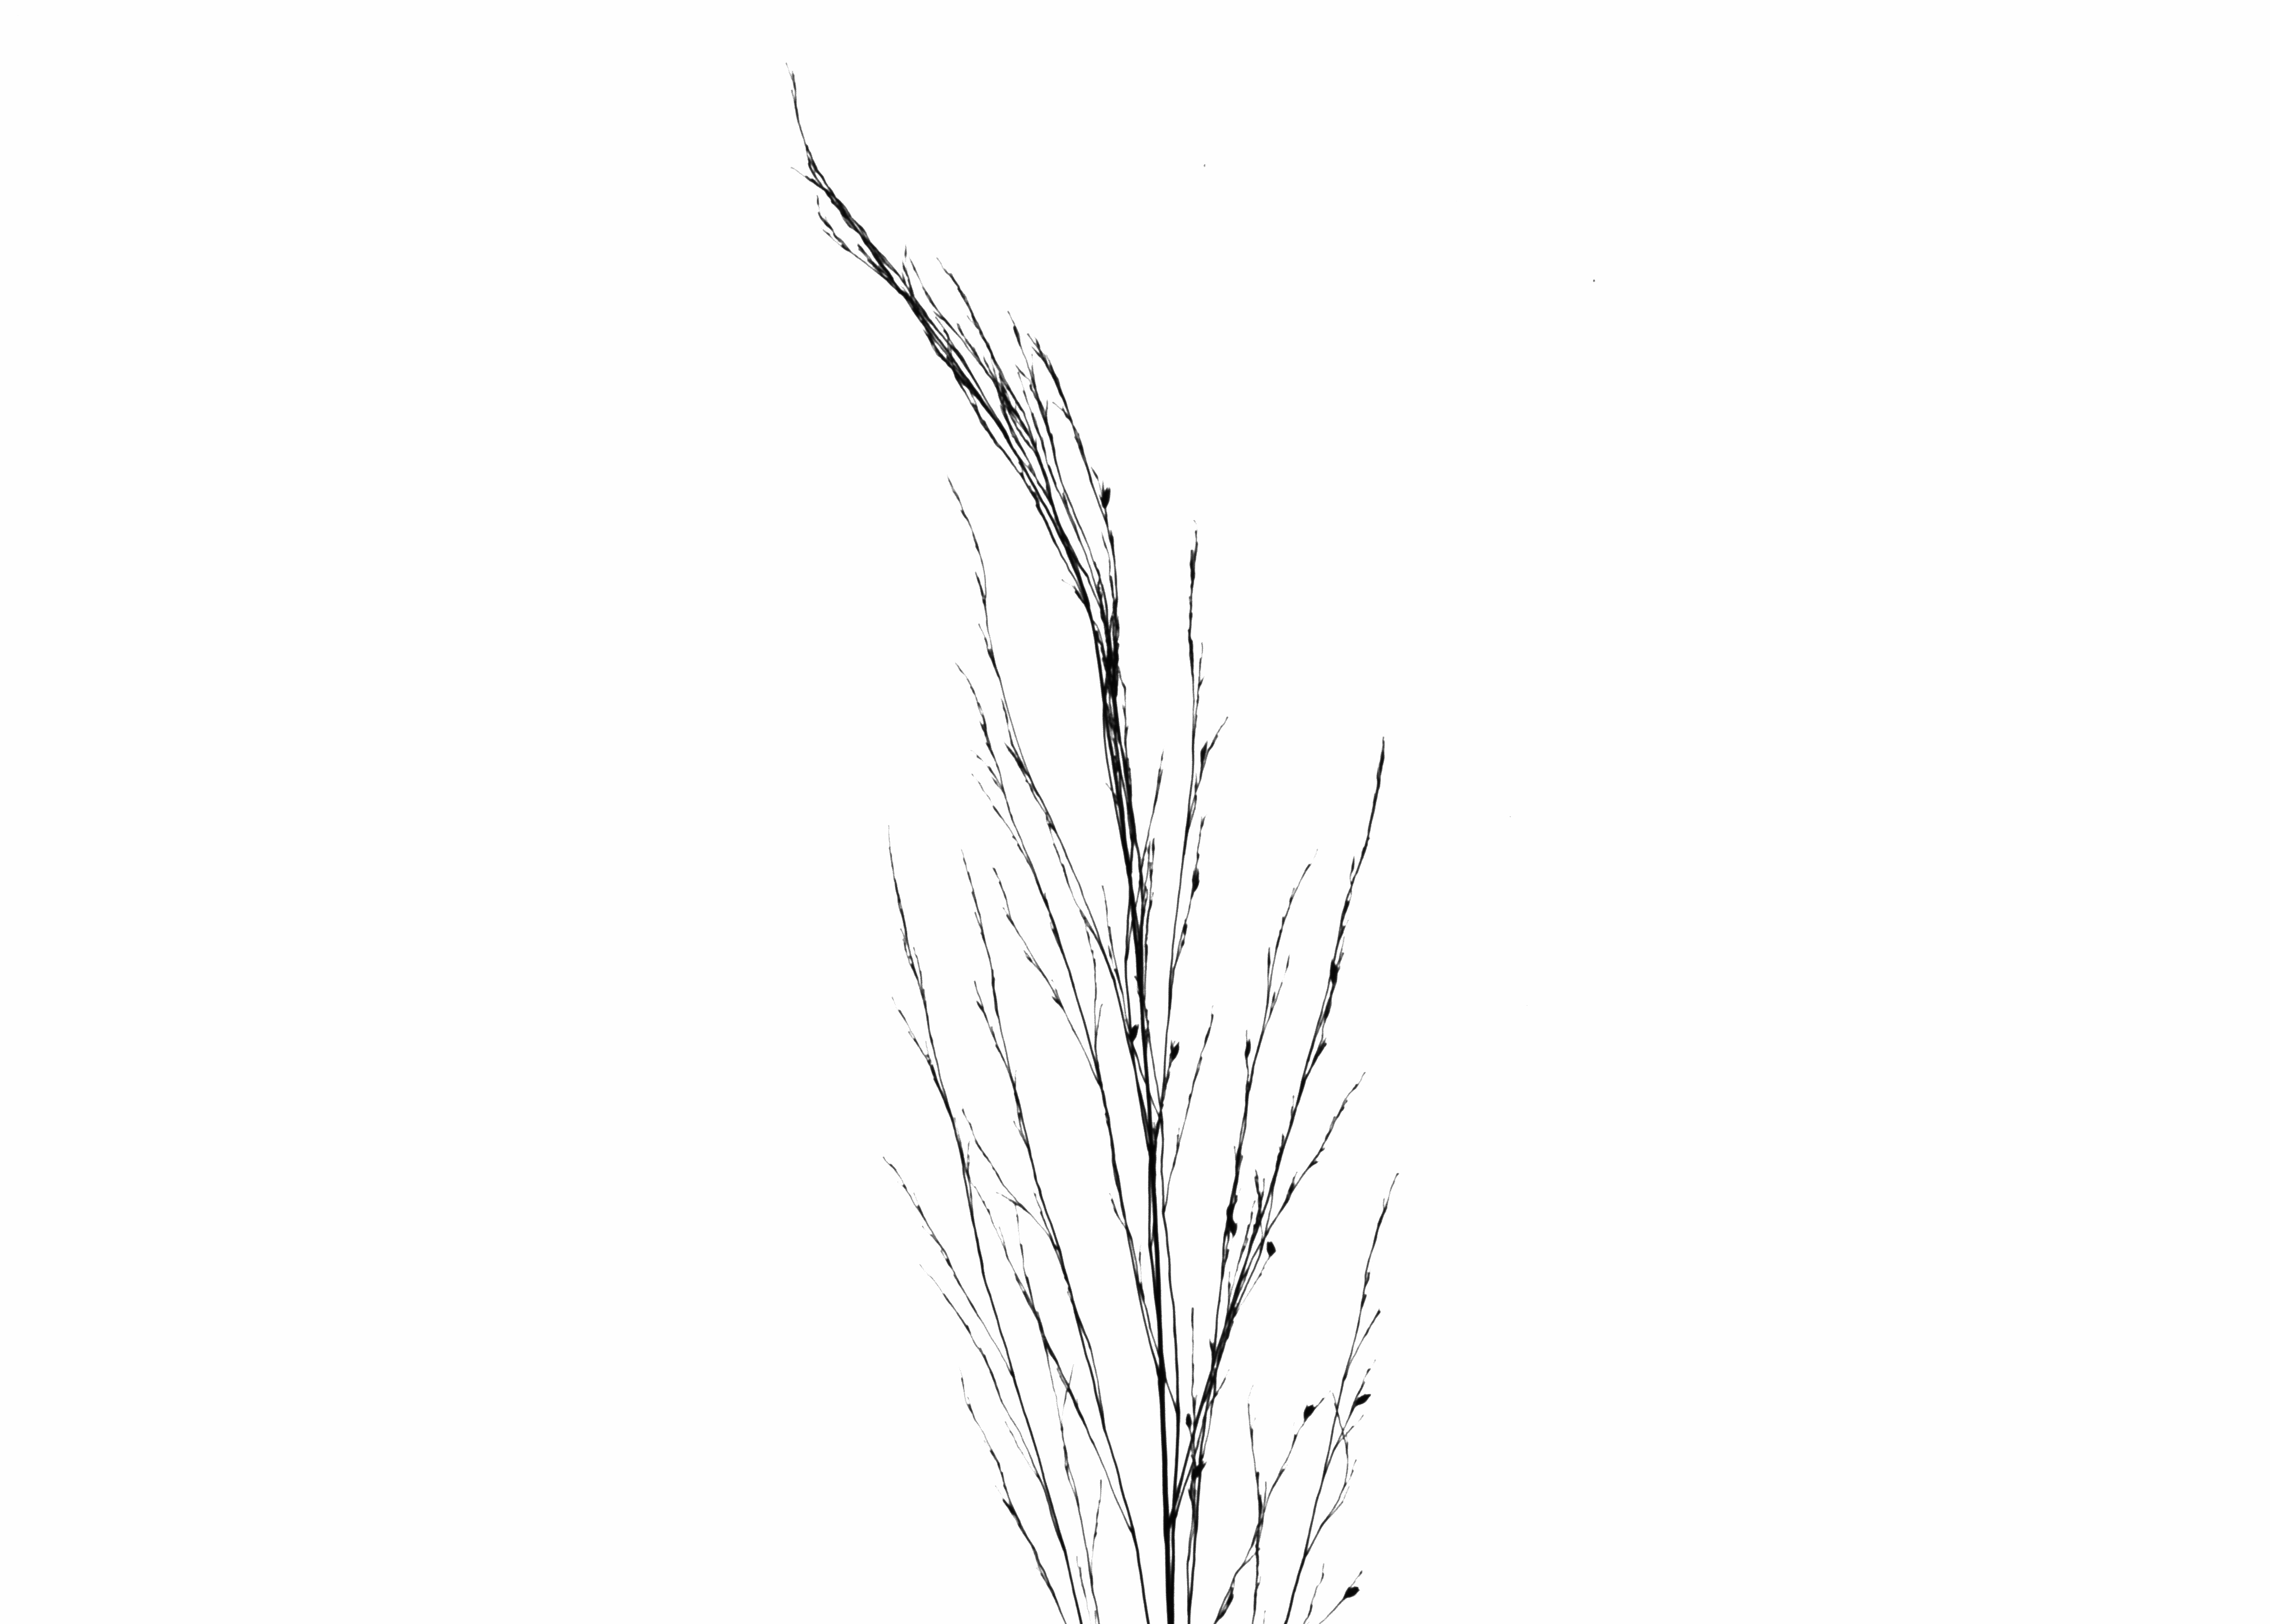seed: (1185, 861, 1213, 900), (1122, 1012, 1148, 1051), (1097, 478, 1120, 517), (1189, 1454, 1213, 1480), (1349, 1388, 1377, 1411), (1340, 1580, 1368, 1601), (1298, 1396, 1317, 1425), (1166, 1037, 1185, 1065), (1196, 735, 1211, 768), (1261, 1236, 1280, 1262), (1326, 956, 1340, 986), (1241, 1037, 1254, 1060), (1182, 1410, 1194, 1432), (1229, 1218, 1241, 1239)
